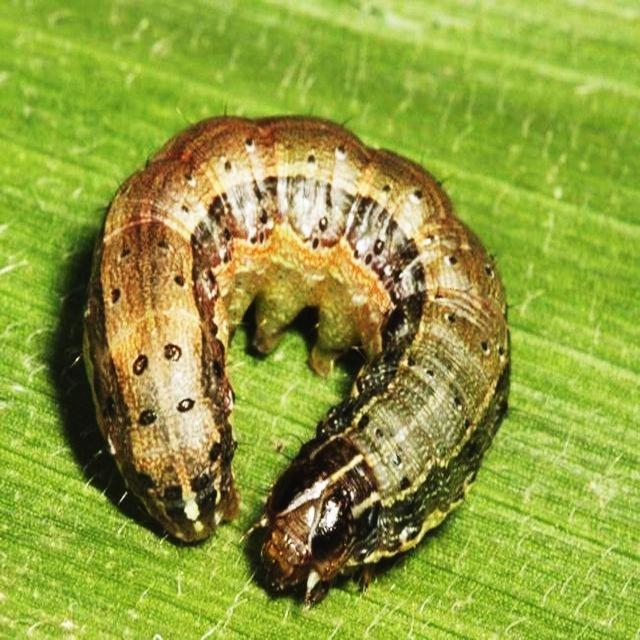worm: (80, 111, 513, 609)
